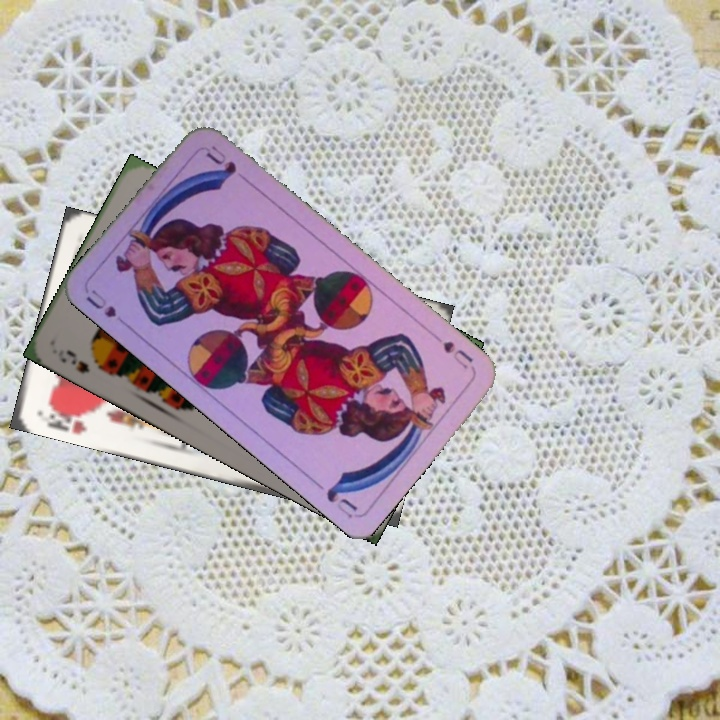HK: (43, 401, 93, 437)
S9: (62, 345, 109, 376)
SU: (81, 286, 133, 331), (439, 336, 477, 373)
